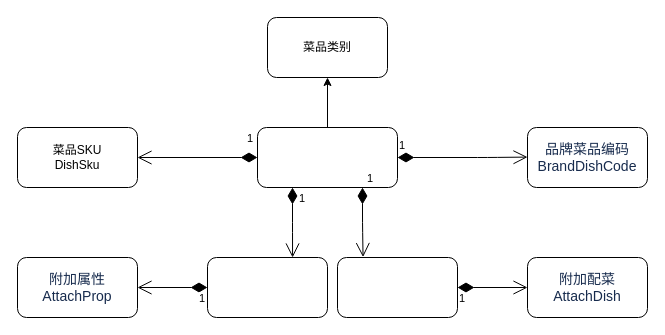
The diagram is 665 pixels wide and 335 high, and some of its shapes have lost their labels. The centre of each missing label's shape, as x and y in pixels:
菜品 Dish: pixel 327 157
附加属性组 AttachPropGroup: pixel 267 287
附加配菜组 AttachDishGroup: pixel 397 287
